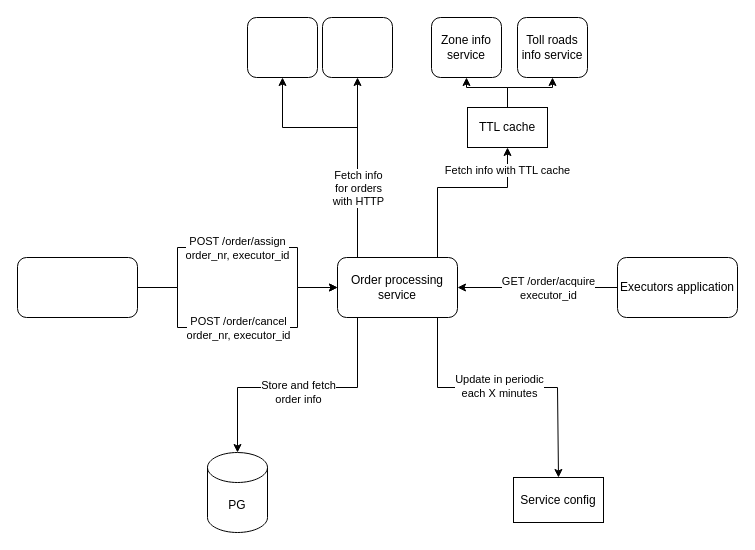
This 755x550 diagram has some shape labels left out. Each missing label, with the centre of its shape:
Executor info service: pixel 357 47
Order assignment system: pixel 77 287
Order info service: pixel 282 47
